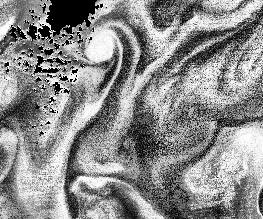CE: (83, 20, 134, 64)
